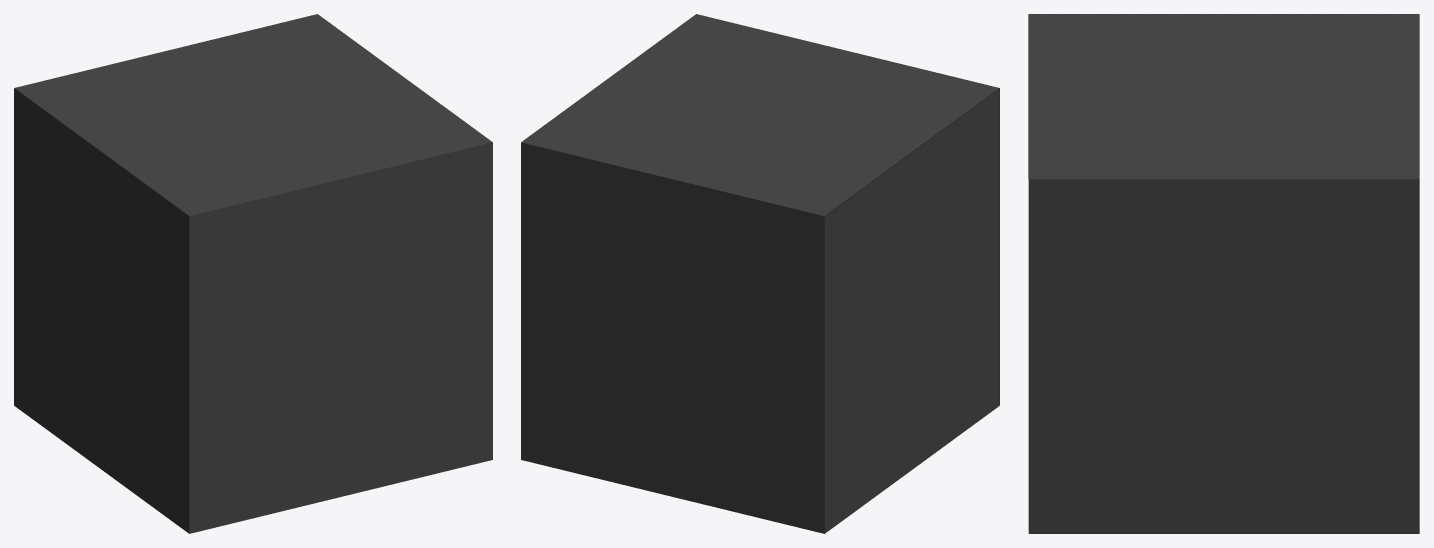
File: CastleBlock.fbx
3 views of the same model, side by side, from view 1: azimuth 30°, elevation 25°; view 2: azimuth 150°, elevation 25°; view 3: azimuth 270°, elevation 25° (orthographic). The views are drawn at different scales.
Visible parts, largest first — view 1: Castle block; view 2: Castle block; view 3: Castle block.
Part boxes in pixels (x1=…): Castle block: x1=14, y1=14, x2=492, y2=533; Castle block: x1=521, y1=14, x2=999, y2=533; Castle block: x1=1028, y1=14, x2=1419, y2=533.
Bounding box in the file's own units: 400 × 400 × 400.
